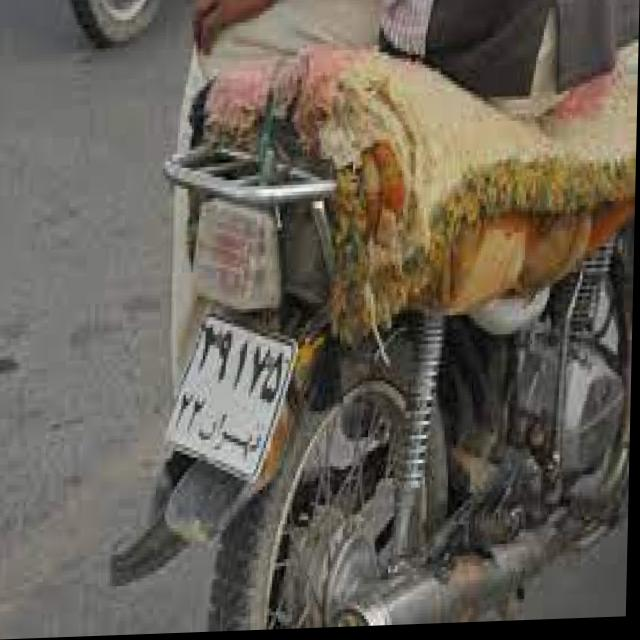licence: (163, 299, 303, 495)
